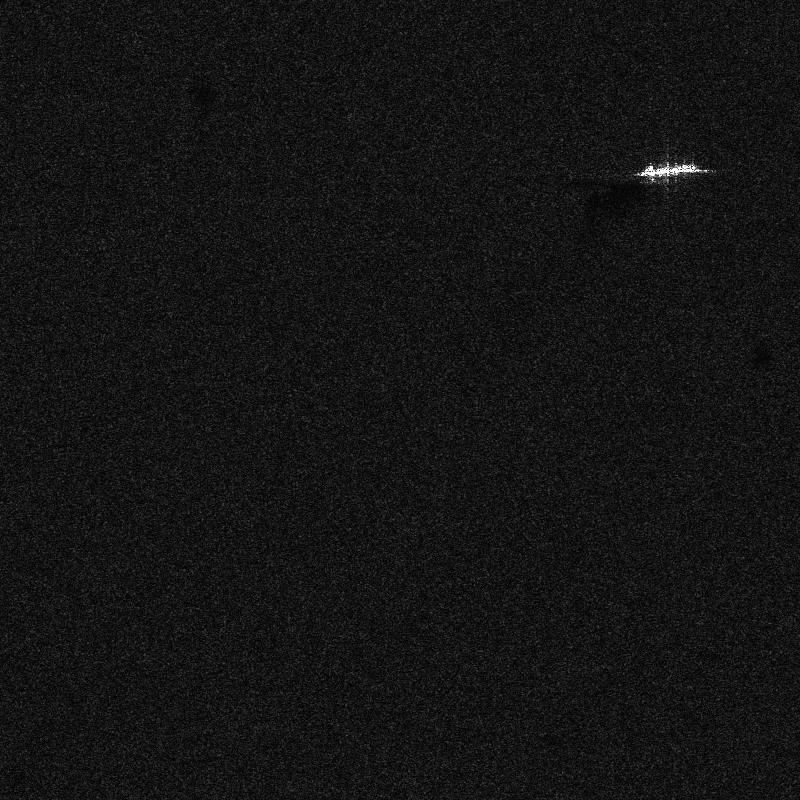ship: (637, 163, 707, 178)
